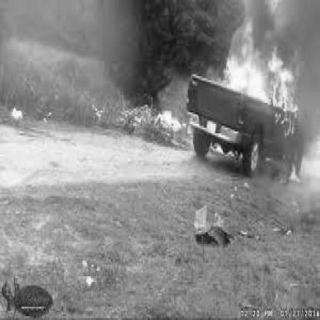Fire: (221, 19, 301, 135)
